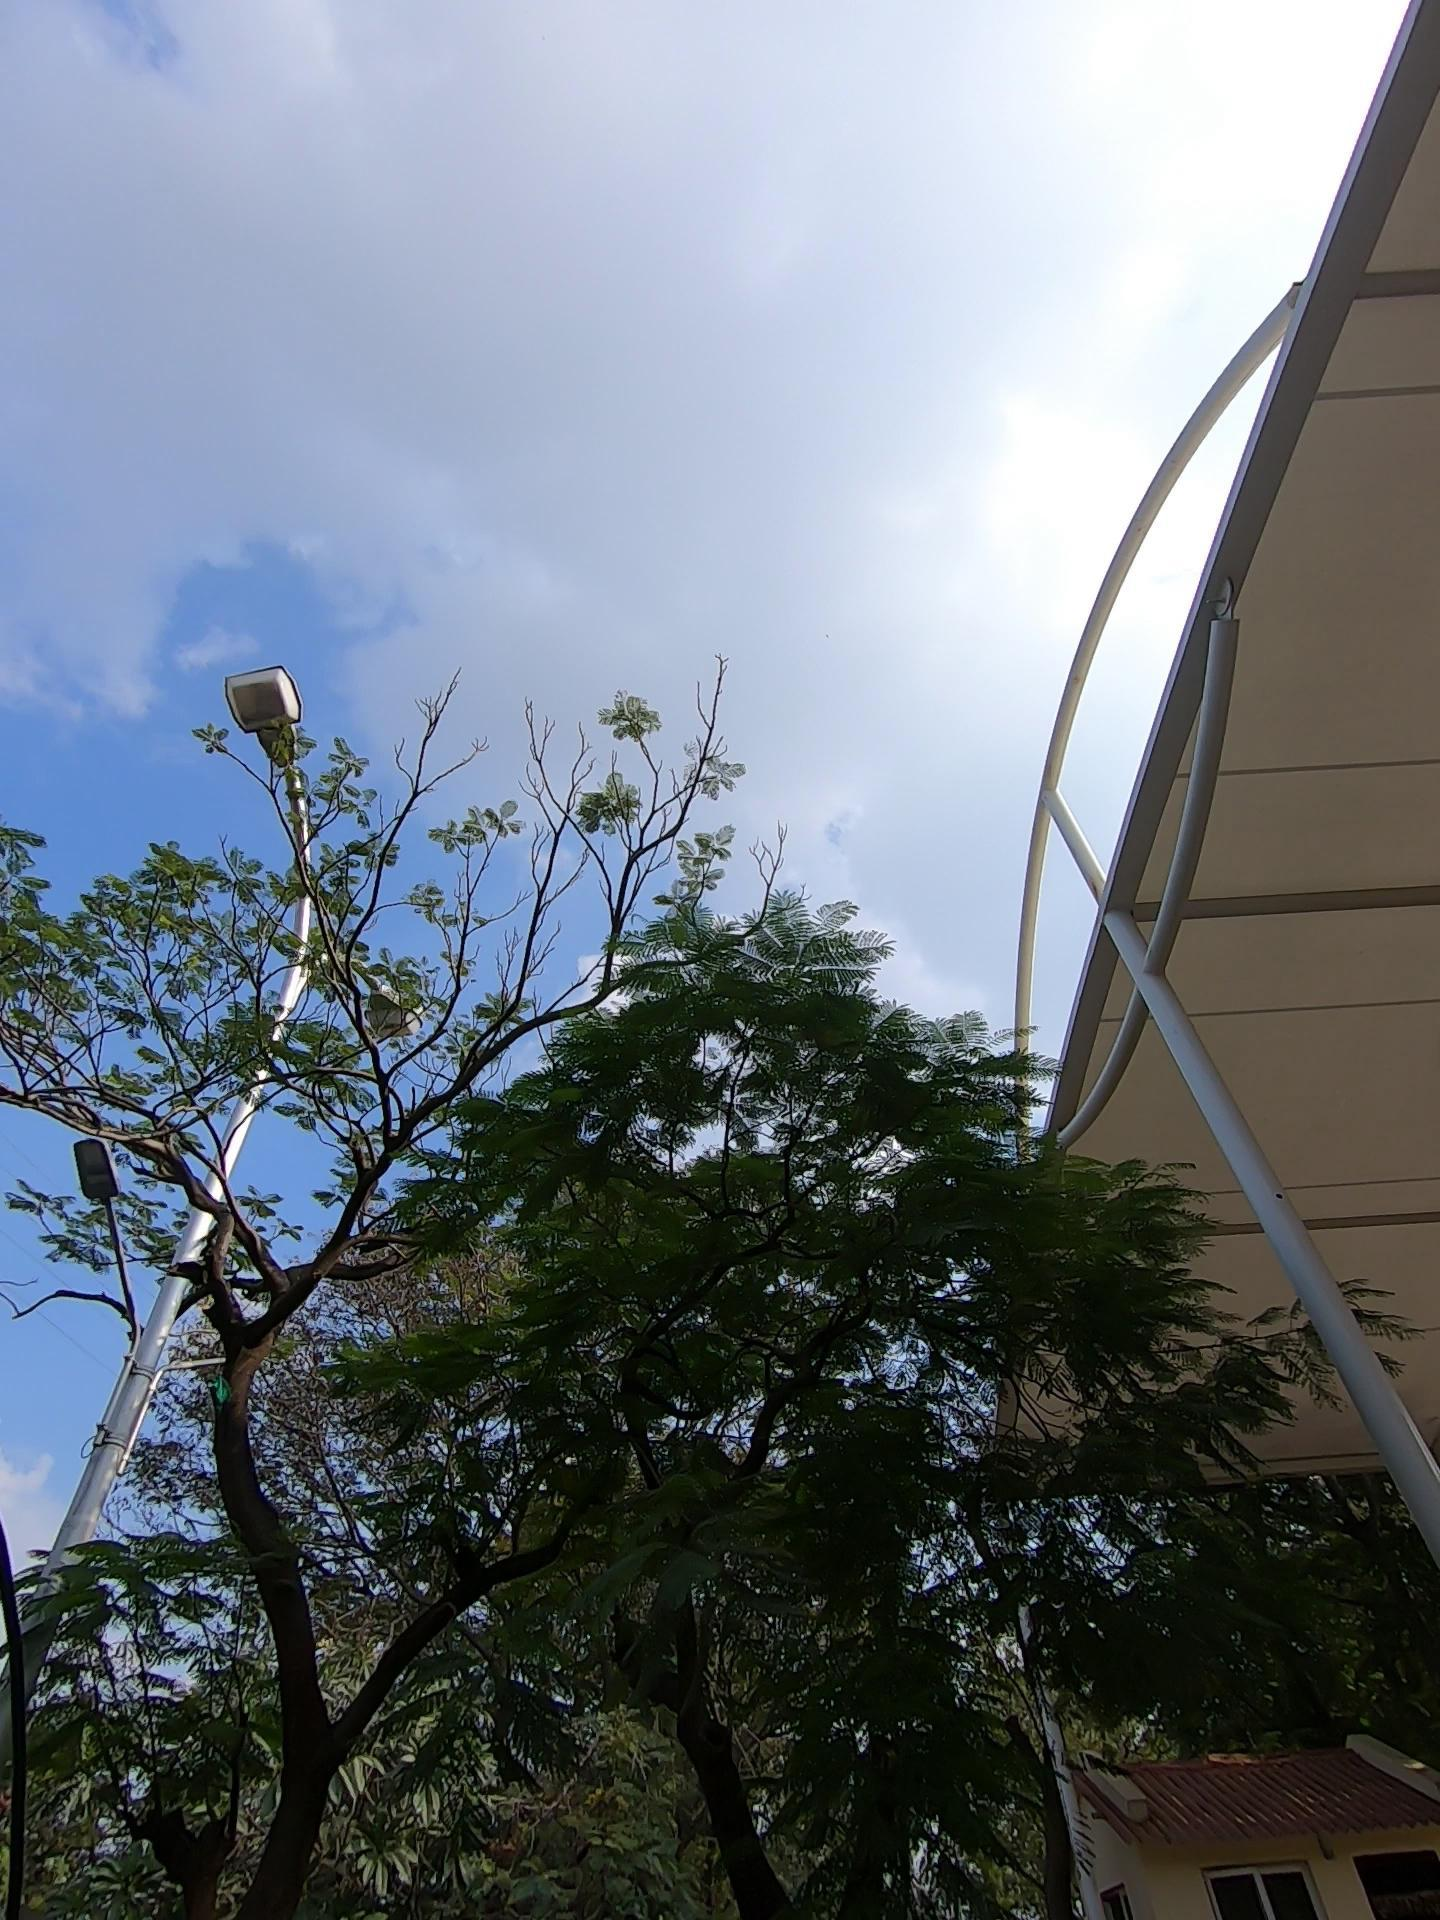off: (100, 641, 455, 1007)
